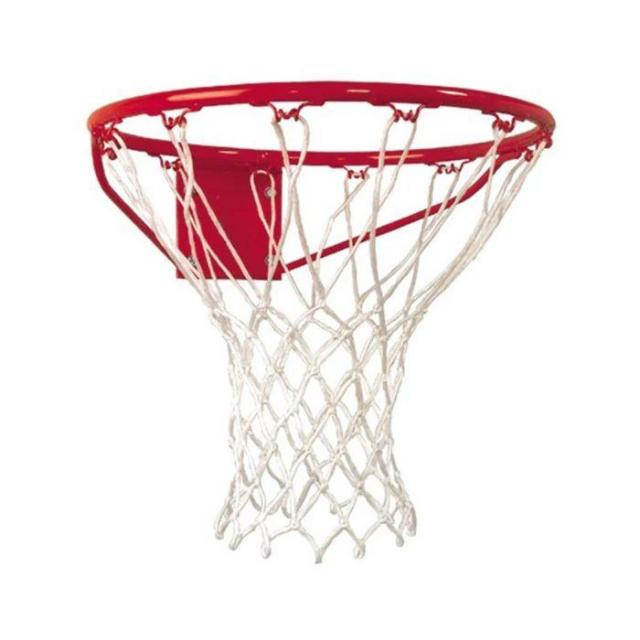hoop: (127, 52, 525, 555)
